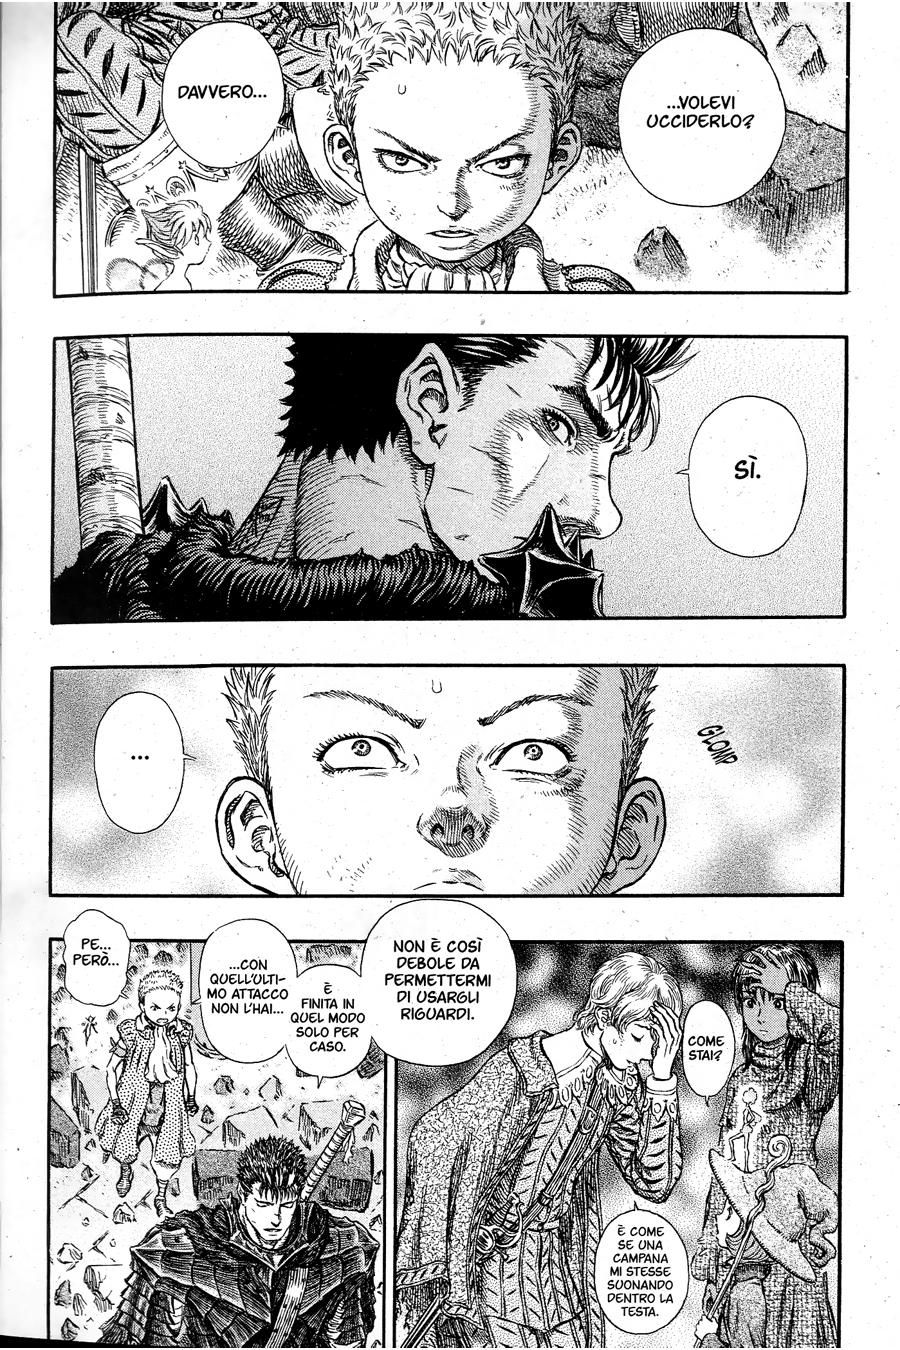Baloon: (618, 30, 789, 213), (363, 899, 518, 1070), (687, 395, 808, 554), (163, 17, 281, 166), (195, 921, 293, 1058), (93, 695, 183, 836), (595, 1209, 693, 1334), (289, 966, 371, 1077), (59, 911, 126, 1007), (681, 997, 730, 1109)
Vignetta: (53, 1, 848, 297), (51, 336, 849, 626), (53, 664, 842, 897), (395, 946, 844, 1344), (49, 938, 383, 1348)
